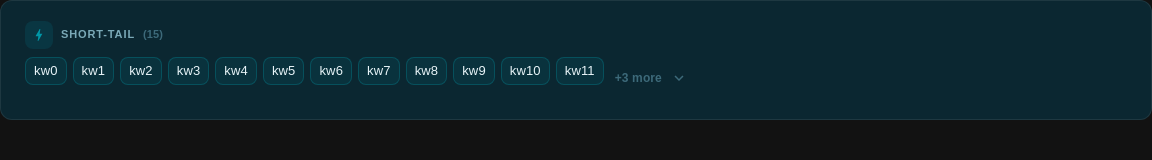
Test: KeywordChipCloud › expands and collapses sections on toggle click
Expected: the text "kw14" is not shown
# Click "Show all"
Click the button "+3 more": (650, 78) [610,57,691,99]
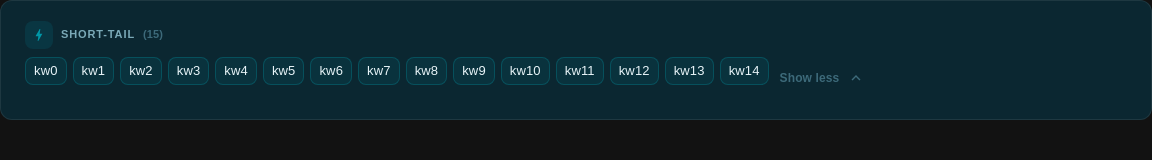
Expected: the text "kw14" is shown, [729,61,760,81]
# Click "Show less"
Click the button "Show less": (822, 78) [775,57,868,99]
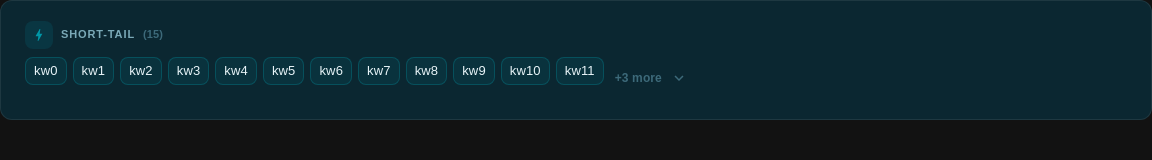
Expected: the button "kw14" is gone
